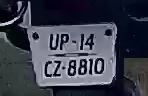0: (94, 57, 106, 77)
1: (79, 32, 85, 52), (88, 59, 94, 76)
4: (85, 33, 95, 50)
8: (76, 59, 88, 77), (66, 59, 77, 77)
C: (42, 59, 53, 77)
P: (60, 31, 70, 51)
U: (47, 31, 59, 50)
Z: (52, 58, 62, 79)
